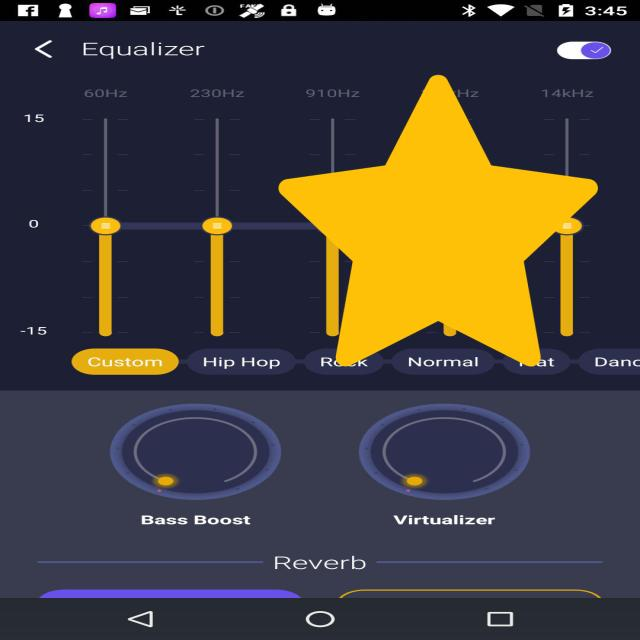forced continuity: (278, 75, 598, 366)
